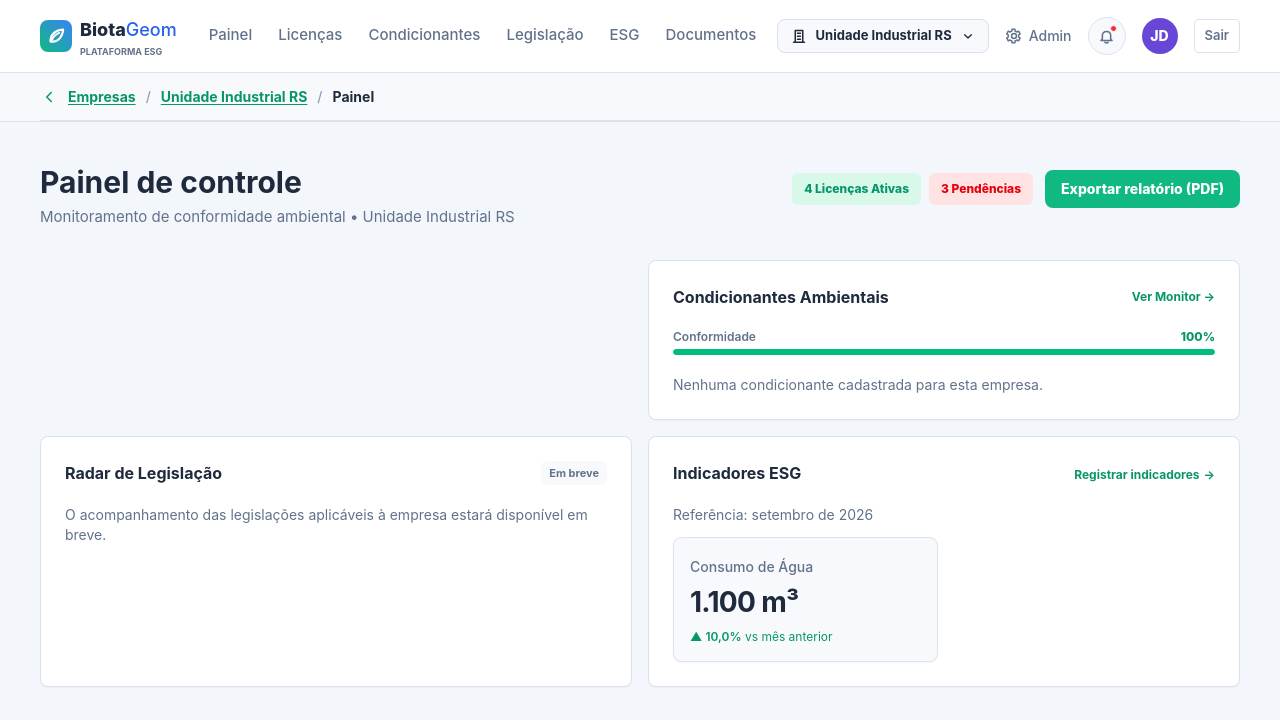
Test: CompanyDashboardPage › shows the API message when the report cannot be generated
The image size is (1280, 720).
Click the button "Exportar relatório (PDF)". click: (1142, 189)
box: [1045,170,1240,208]
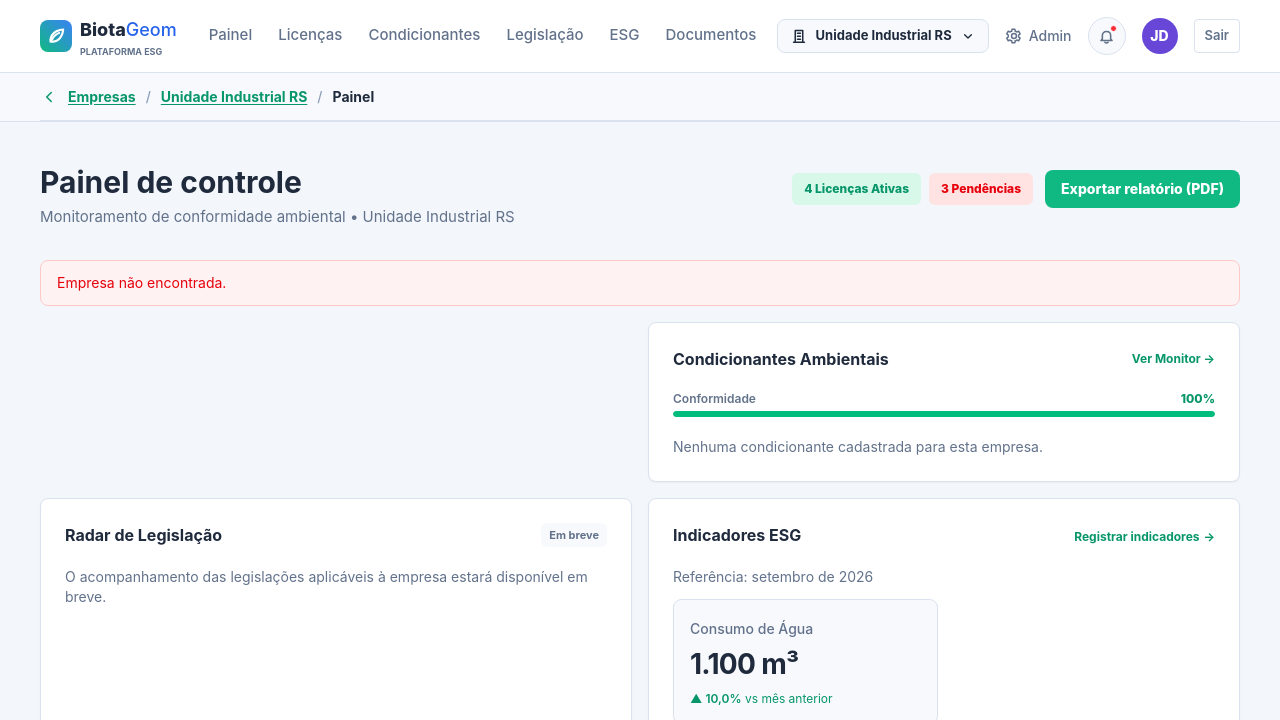
expect the text "Empresa não encontrada." is shown: met, box [40,260,1240,306]
